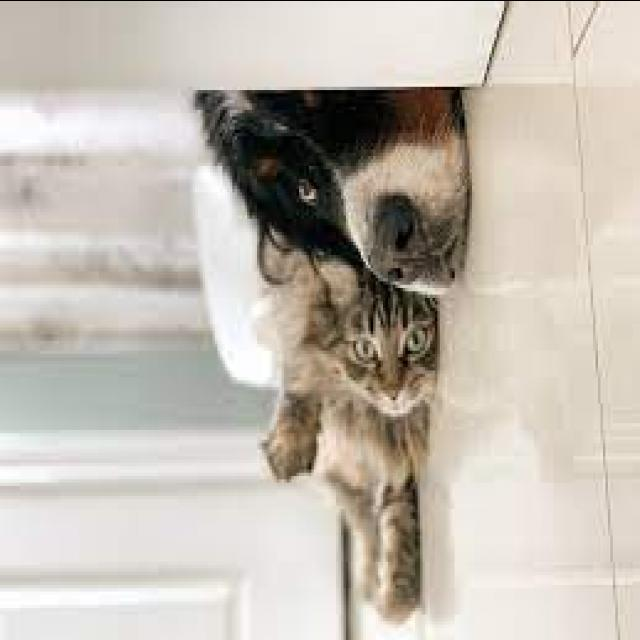cat: (255, 290, 442, 640)
dog: (190, 90, 467, 302)
